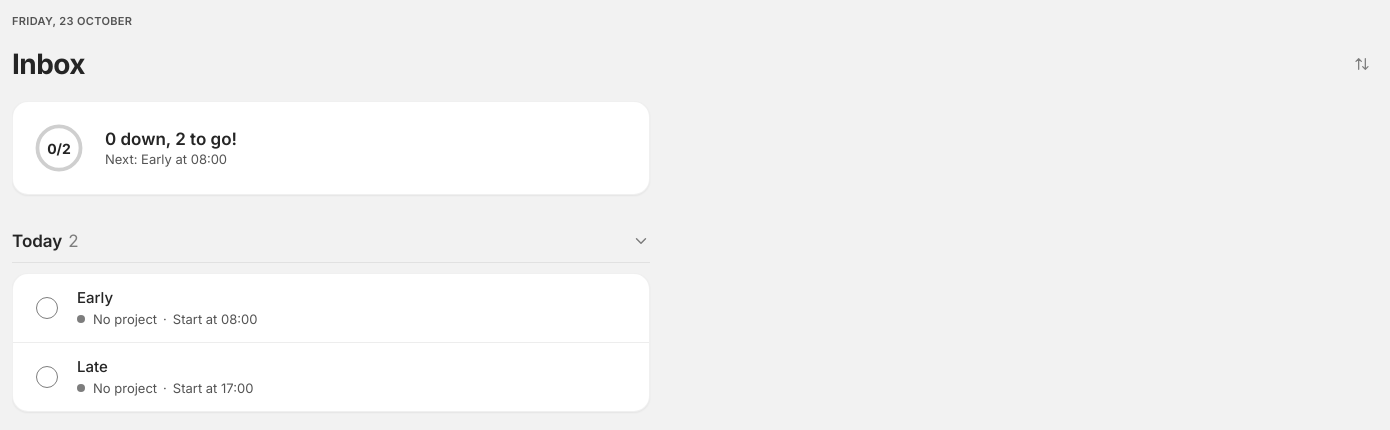
it: Sort menu (#178) › Escape closes the menu and gives focus back to its button
The width and height of the screenshot is (1390, 430).
Step 1. Click the button named "Sort Inbox" → {"x": 1362, "y": 64}, box [1346,48,1378,80]
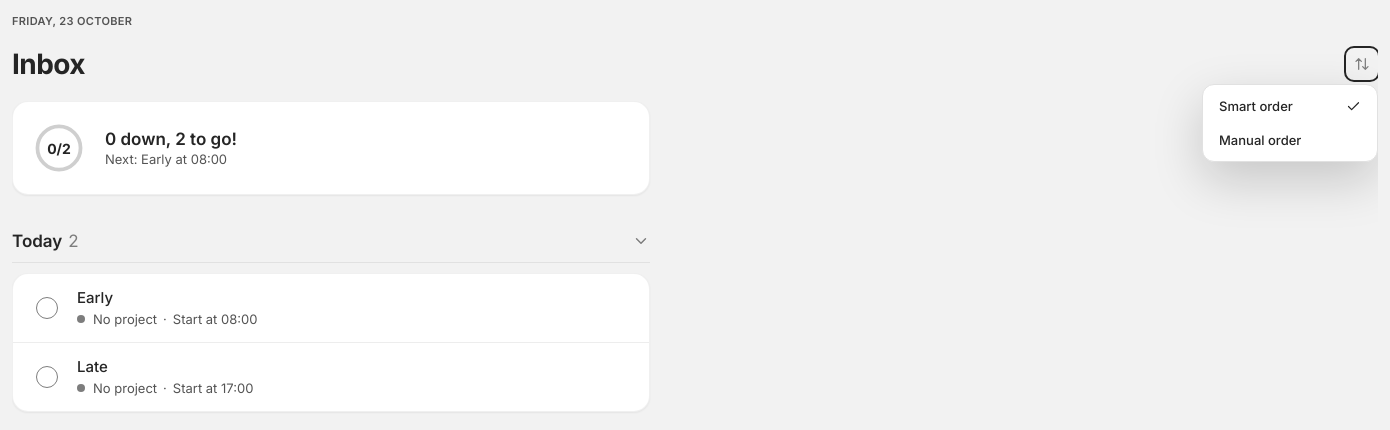
Step 2. Press Escape
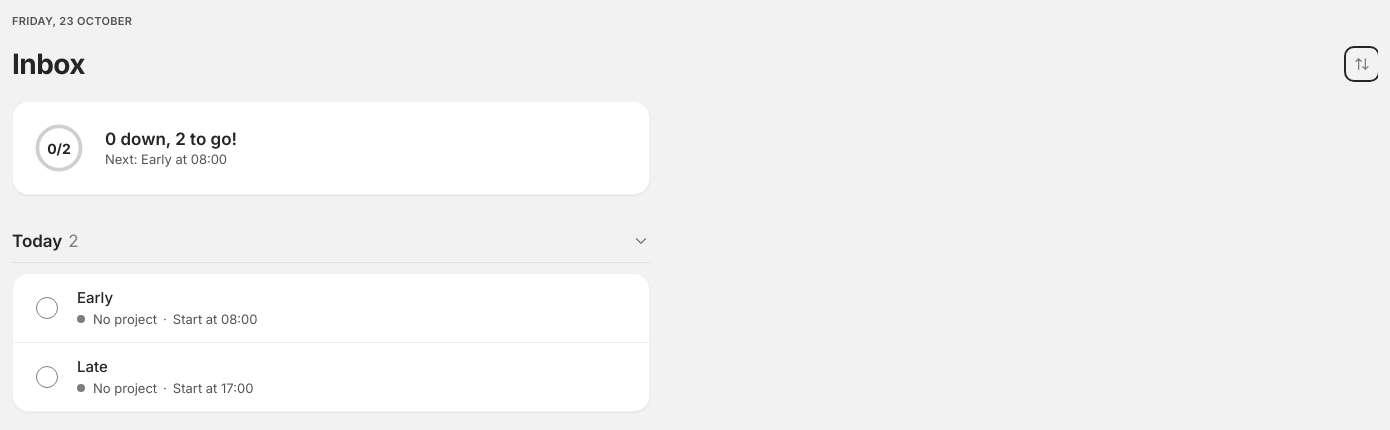
Check: the menu is gone
